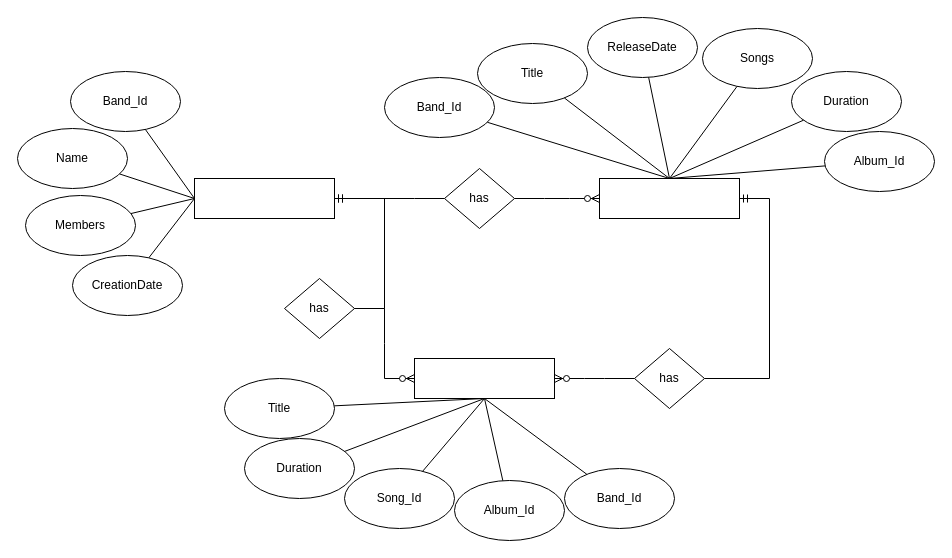
The diagram is 952 pixels wide and 558 high, and some of its shapes have lost their labels. The centre of each missing label's shape, as x and y in pixels:
"Album" belongs at (669,198).
"Band" belongs at (264,198).
"Song" belongs at (484,378).
